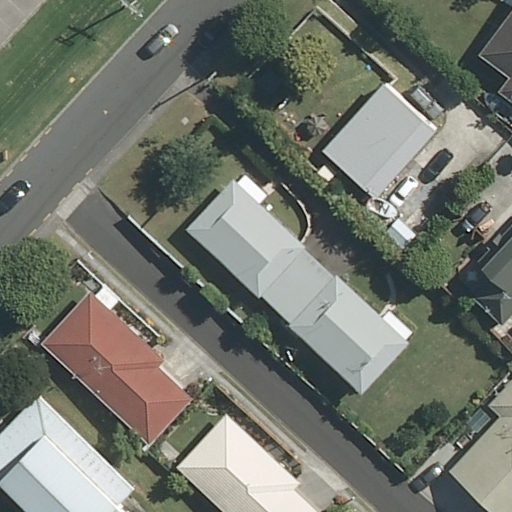DT: (196, 69, 223, 92)
